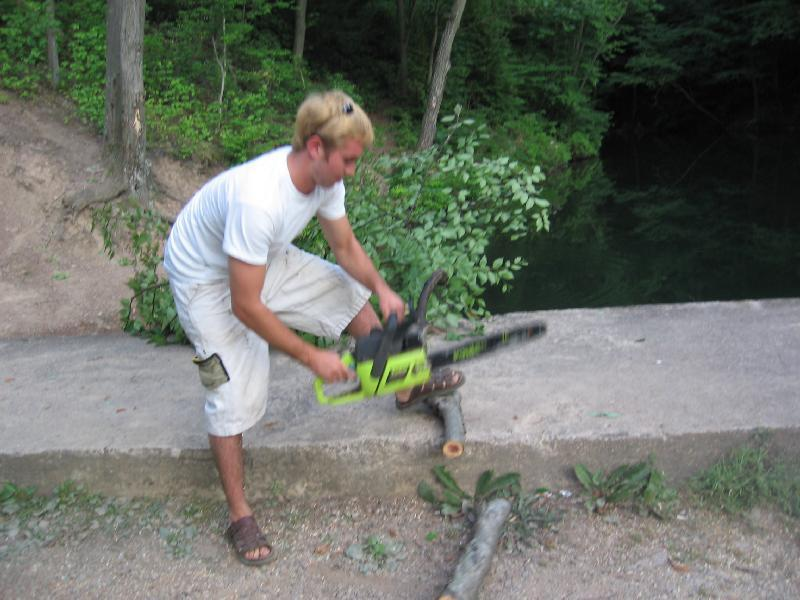person: (162, 87, 414, 565)
